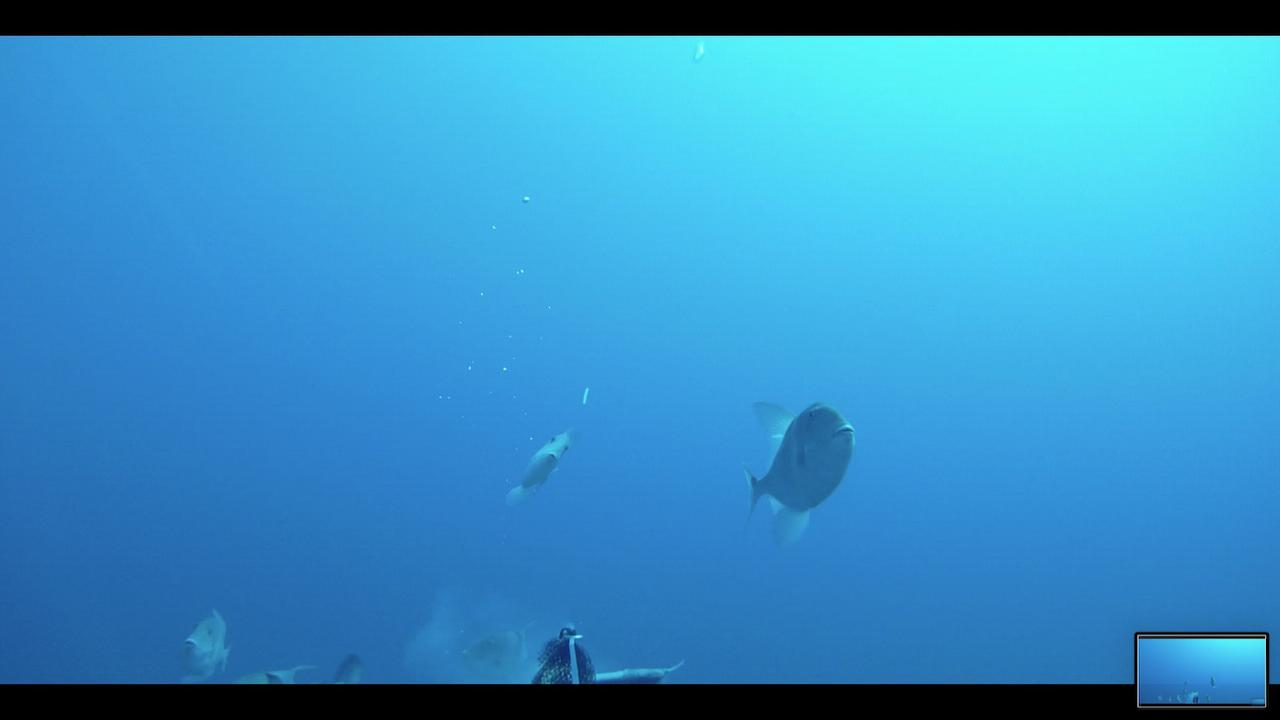balistes: (728, 396, 858, 546), (506, 424, 579, 501), (177, 602, 243, 683)
